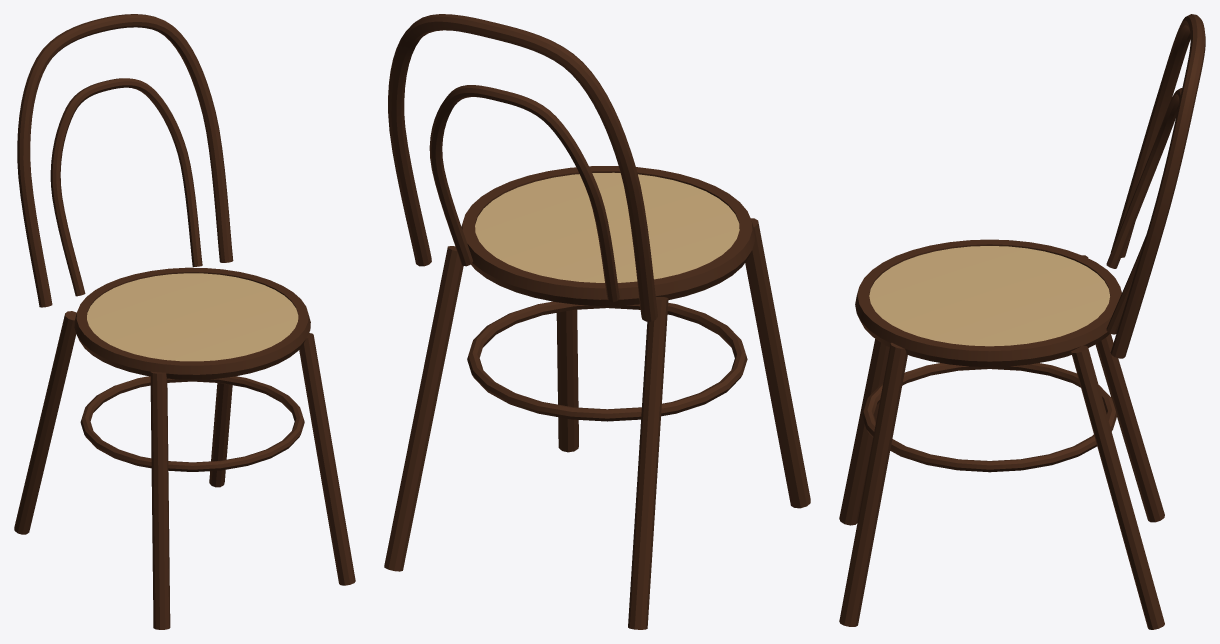
The model's file is bentwood_walnut.glb.
The picture shows the model from 3 angles, left to right: view 1: azimuth 30°, elevation 25°; view 2: azimuth 150°, elevation 25°; view 3: azimuth 270°, elevation 25°; orthographic projection. The views are drawn at different scales.
Parts seen in each view (by area): view 1: bentwood_walnut; view 2: bentwood_walnut; view 3: bentwood_walnut.
Part boxes in pixels (x1,y1,x2,y2): bentwood_walnut: (14,14,355,629); bentwood_walnut: (384,14,810,629); bentwood_walnut: (839,14,1205,629).
Bounding box in the file's own units: 0.4273 × 0.9306 × 0.5714.
